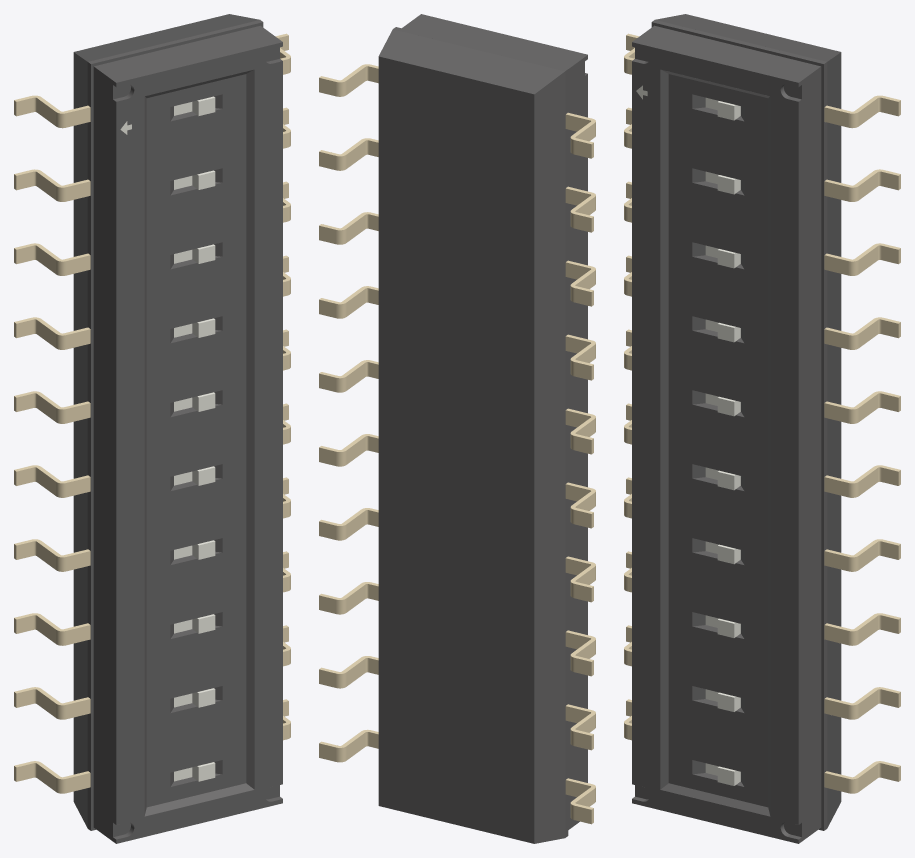
File: SW_DIP_SPSTx10_Slide_Omron_A6S-1010x_W8.9mm_P2.54mm.glb
3 renders of one model, left to right at view 1: azimuth 30°, elevation 25°; view 2: azimuth 150°, elevation 25°; view 3: azimuth 330°, elevation 25°, orthographic.
Visible parts, largest first — view 1: Shape_IndexedFaceSet.303, Shape_IndexedFaceSet.186, Shape_IndexedFaceSet.193, Shape_IndexedFaceSet.005, Shape_IndexedFaceSet.302, Shape_IndexedFaceSet.184, Shape_IndexedFaceSet.049, Shape_IndexedFaceSet.002, Shape_IndexedFaceSet.143, Shape_IndexedFaceSet.299, Shape_IndexedFaceSet.301, Shape_IndexedFaceSet.006 (+1 smaller); view 2: Shape_IndexedFaceSet.001, Shape_IndexedFaceSet.005, Shape_IndexedFaceSet.193, Shape_IndexedFaceSet.002, Shape_IndexedFaceSet.184, Shape_IndexedFaceSet.049, Shape_IndexedFaceSet.006; view 3: Shape_IndexedFaceSet.303, Shape_IndexedFaceSet.186, Shape_IndexedFaceSet.052, Shape_IndexedFaceSet, Shape_IndexedFaceSet.299, Shape_IndexedFaceSet.184, Shape_IndexedFaceSet.003, Shape_IndexedFaceSet.002, Shape_IndexedFaceSet.008, Shape_IndexedFaceSet.302, Shape_IndexedFaceSet.301, Shape_IndexedFaceSet.006 (+1 smaller).
Boxes of the visible parts, x1=… form: Shape_IndexedFaceSet.303: x1=146, y1=74, x2=246, y2=807; Shape_IndexedFaceSet.186: x1=116, y1=42, x2=282, y2=843; Shape_IndexedFaceSet.193: x1=93, y1=66, x2=116, y2=843; Shape_IndexedFaceSet.005: x1=73, y1=52, x2=87, y2=827; Shape_IndexedFaceSet.302: x1=246, y1=69, x2=254, y2=789; Shape_IndexedFaceSet.184: x1=94, y1=25, x2=282, y2=82; Shape_IndexedFaceSet.049: x1=87, y1=62, x2=90, y2=830; Shape_IndexedFaceSet.002: x1=74, y1=14, x2=259, y2=61; Shape_IndexedFaceSet.143: x1=91, y1=64, x2=93, y2=830; Shape_IndexedFaceSet.299: x1=144, y1=96, x2=146, y2=815; Shape_IndexedFaceSet.301: x1=145, y1=783, x2=253, y2=816; Shape_IndexedFaceSet.006: x1=88, y1=20, x2=262, y2=63; Shape_IndexedFaceSet.001: x1=378, y1=56, x2=534, y2=843; Shape_IndexedFaceSet.005: x1=534, y1=71, x2=565, y2=843; Shape_IndexedFaceSet.193: x1=568, y1=55, x2=587, y2=829; Shape_IndexedFaceSet.002: x1=379, y1=29, x2=564, y2=94; Shape_IndexedFaceSet.184: x1=402, y1=14, x2=587, y2=68; Shape_IndexedFaceSet.049: x1=565, y1=69, x2=568, y2=837; Shape_IndexedFaceSet.006: x1=393, y1=27, x2=567, y2=70; Shape_IndexedFaceSet.303: x1=668, y1=74, x2=768, y2=807; Shape_IndexedFaceSet.186: x1=632, y1=42, x2=798, y2=843; Shape_IndexedFaceSet.052: x1=798, y1=66, x2=821, y2=843; Shape_IndexedFaceSet: x1=827, y1=52, x2=841, y2=827; Shape_IndexedFaceSet.299: x1=660, y1=69, x2=668, y2=789; Shape_IndexedFaceSet.184: x1=632, y1=25, x2=820, y2=82; Shape_IndexedFaceSet.003: x1=824, y1=62, x2=827, y2=830; Shape_IndexedFaceSet.002: x1=655, y1=14, x2=840, y2=61; Shape_IndexedFaceSet.008: x1=821, y1=64, x2=823, y2=830; Shape_IndexedFaceSet.302: x1=768, y1=96, x2=770, y2=815; Shape_IndexedFaceSet.301: x1=661, y1=783, x2=769, y2=816; Shape_IndexedFaceSet.006: x1=652, y1=20, x2=826, y2=63.
Bounding box in the file's own units: 3.86 × 10.37 × 1.21.
